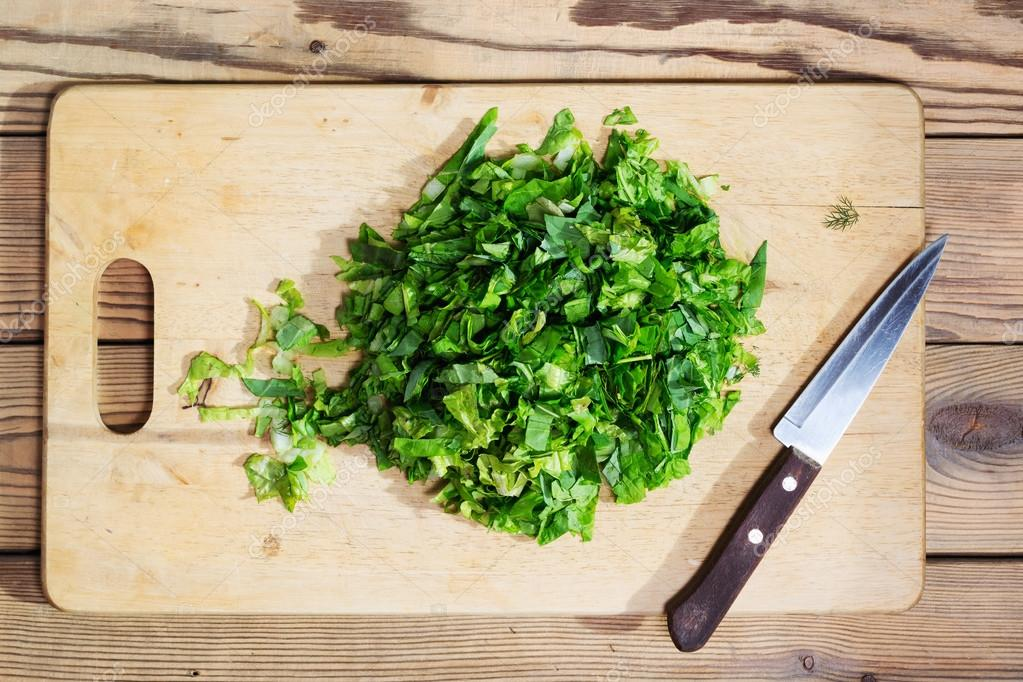chopped lettuce: (450, 169, 640, 484)
